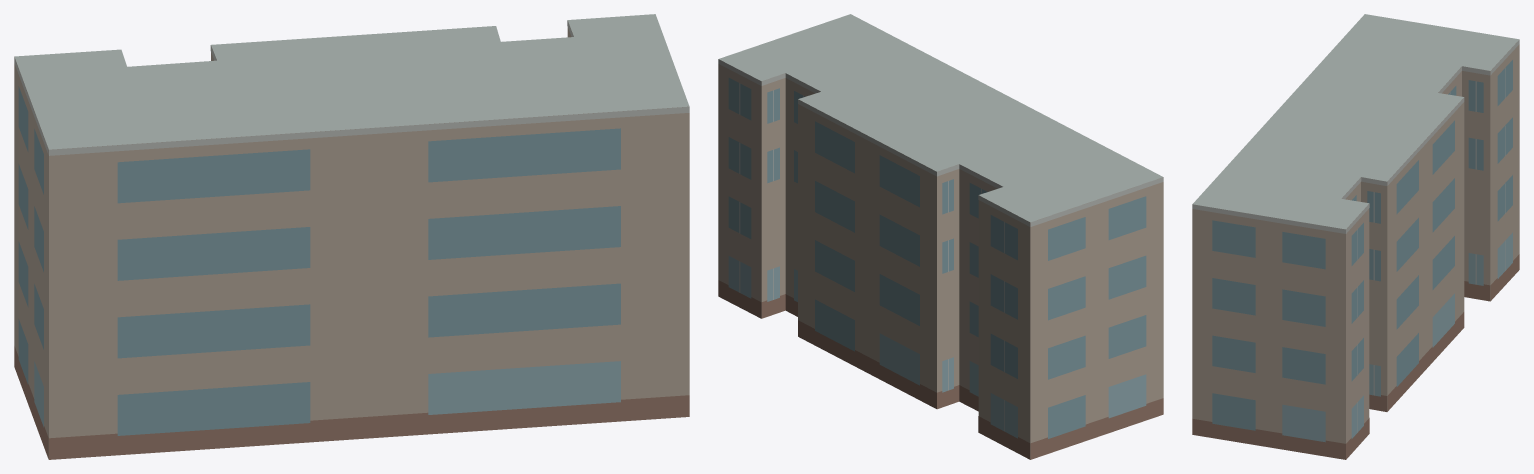
The model's file is survey-upis-32873591.glb.
3 views of the same model, side by side, from view 1: azimuth 30°, elevation 25°; view 2: azimuth 150°, elevation 25°; view 3: azimuth 270°, elevation 25° (orthographic). The views are drawn at different scales.
Visible parts, largest first — view 1: survey-upis-32873591.tmp; view 2: survey-upis-32873591.tmp; view 3: survey-upis-32873591.tmp.
Part boxes in pixels (<box>): survey-upis-32873591.tmp: <box>14,14,689,459</box>; survey-upis-32873591.tmp: <box>718,14,1163,459</box>; survey-upis-32873591.tmp: <box>1192,14,1519,459</box>.
Size of the model in its own units: 24.46 by 12.2 by 15.71.
